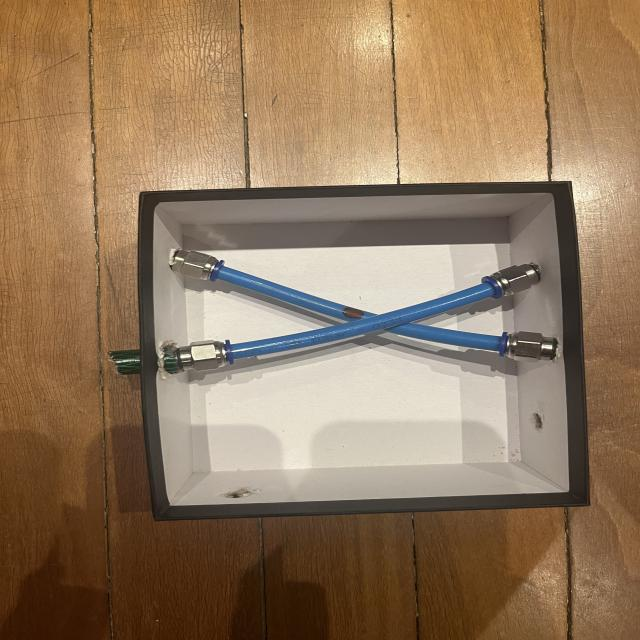hose_damage: (340, 305, 367, 321)
